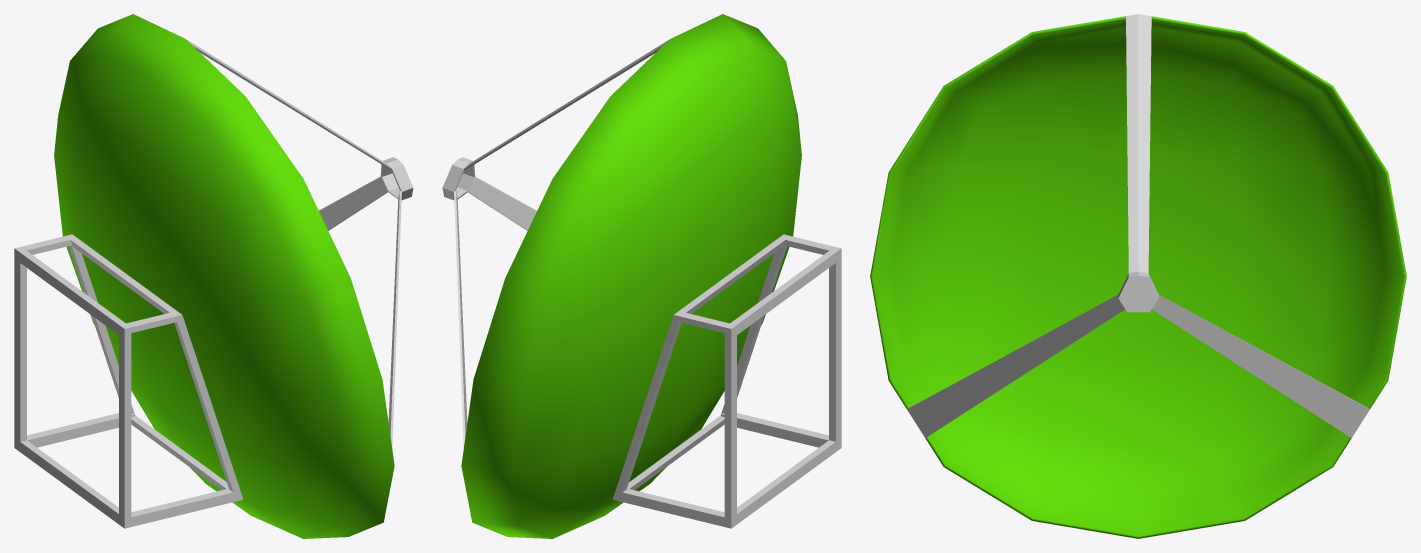
The model's file is tarelka low.fbx.
3 views of the same model, side by side, from view 1: azimuth 30°, elevation 25°; view 2: azimuth 150°, elevation 25°; view 3: azimuth 270°, elevation 25° (orthographic). The views are drawn at different scales.
Parts seen in each view (by area): view 1: LOW3.002; view 2: LOW3.002; view 3: LOW3.002.
Part boxes in pixels (x1,y1,x2,y2): LOW3.002: [14, 14, 413, 538]; LOW3.002: [442, 14, 841, 538]; LOW3.002: [870, 14, 1406, 538].
Bounding box in the file's own units: 115 × 164 × 168.
